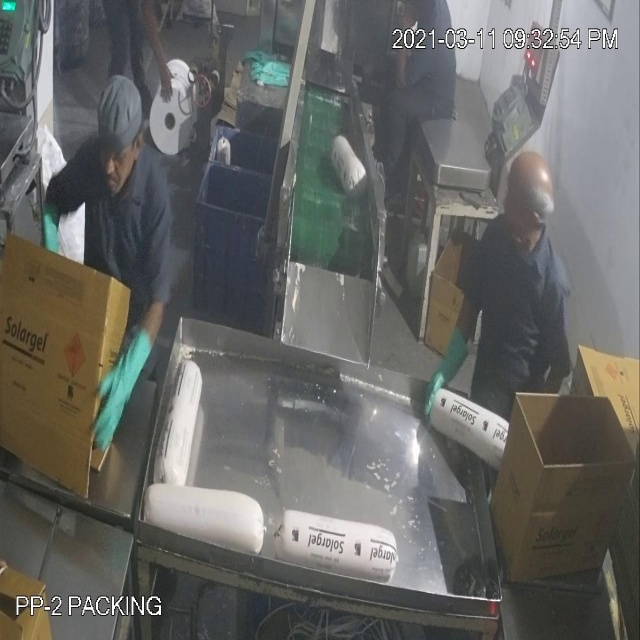Sin_guantes: (139, 1, 176, 121)
